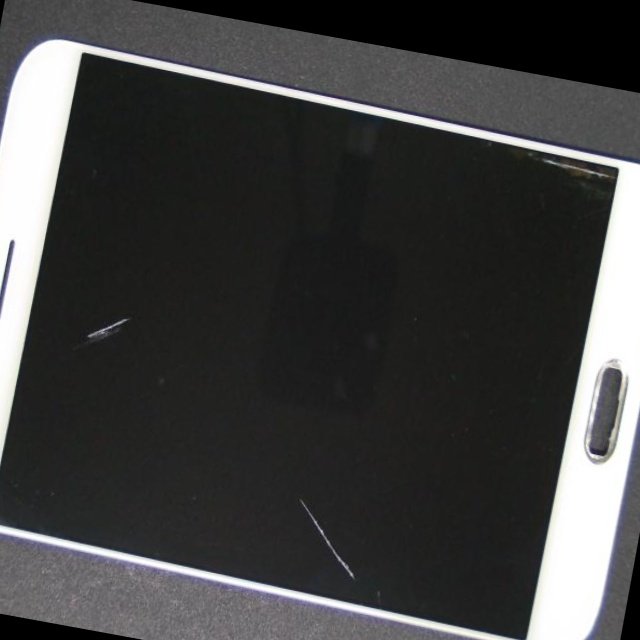scratch: (91, 209, 521, 640), (41, 159, 253, 473)
